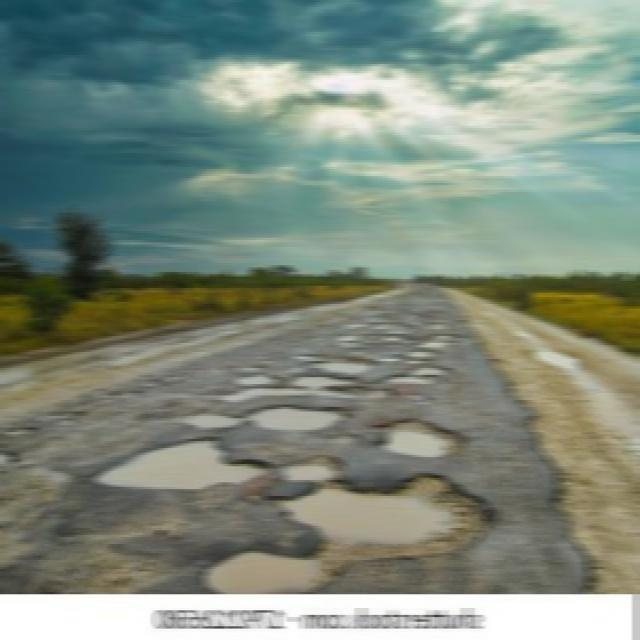Pothole: (193, 466, 512, 594), (86, 428, 268, 497), (146, 405, 358, 432), (365, 414, 474, 466), (204, 384, 392, 406), (282, 453, 342, 486), (293, 349, 375, 373), (368, 308, 419, 335), (291, 371, 358, 384), (235, 365, 281, 382), (377, 375, 442, 387), (410, 364, 455, 378), (416, 336, 462, 348), (387, 334, 421, 348), (409, 346, 437, 359), (422, 320, 451, 330), (339, 336, 368, 346), (378, 351, 398, 364)
